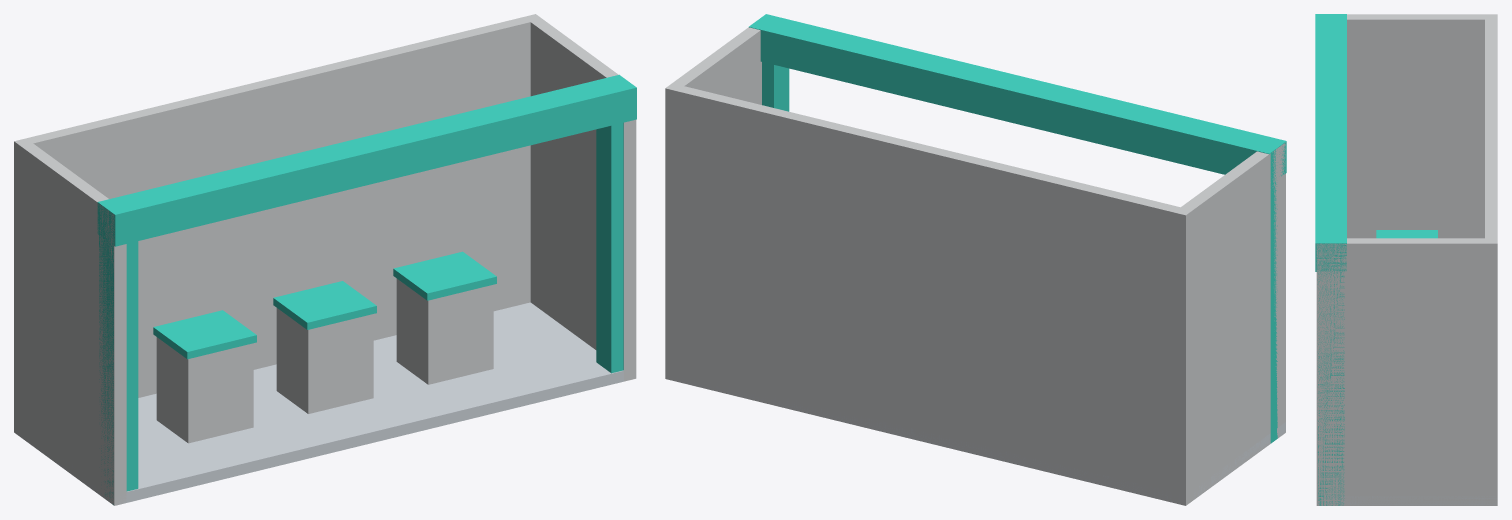
The picture shows the model from 3 angles, left to right: view 1: azimuth 30°, elevation 25°; view 2: azimuth 150°, elevation 25°; view 3: azimuth 270°, elevation 25°; orthographic projection. The views are drawn at different scales.
Visible parts, largest first — view 1: Exhibition Booth Concept; view 2: Exhibition Booth Concept; view 3: Exhibition Booth Concept.
Part boxes in pixels (x1,y1,x2,y2): Exhibition Booth Concept: (14, 14, 636, 505); Exhibition Booth Concept: (665, 14, 1286, 505); Exhibition Booth Concept: (1315, 14, 1497, 505).
Bounding box in the file's own units: 6 × 3.2 × 2.01.
